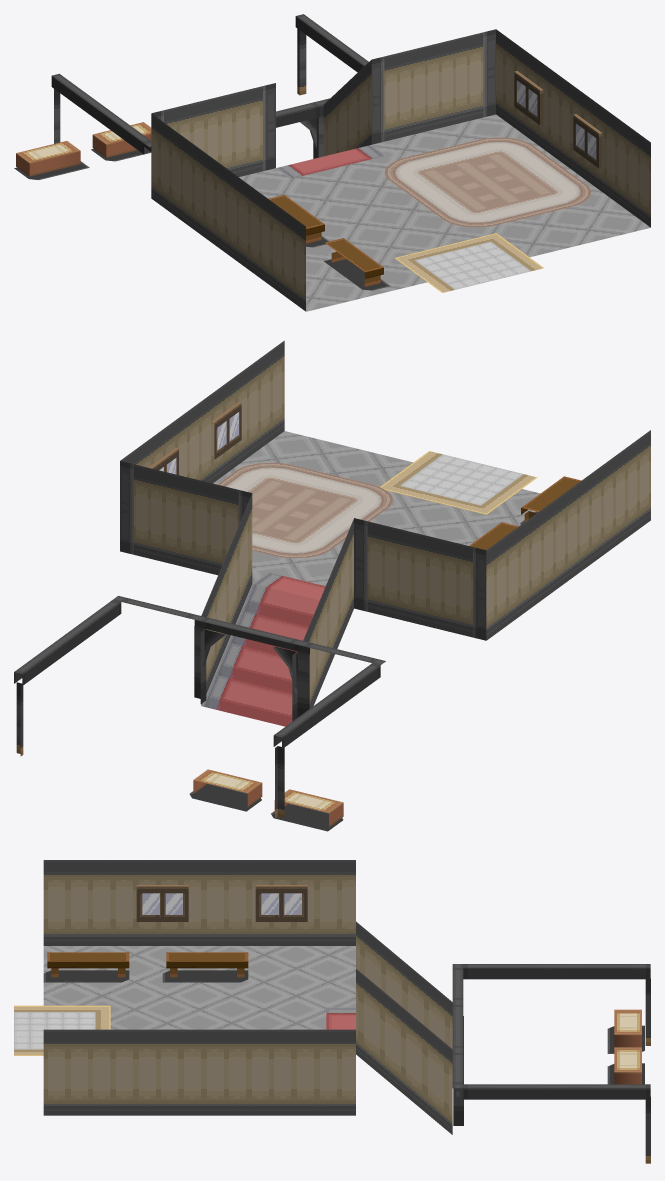
The model's file is HOTEL-B1-8.obj.
3 views of the same model, one above another, from view 1: azimuth 30°, elevation 25°; view 2: azimuth 150°, elevation 25°; view 3: azimuth 270°, elevation 25° (orthographic). The views are drawn at different scales.
Visible parts, largest first — view 1: Indoor_All_v2_06; view 2: Indoor_All_v2_06; view 3: Indoor_All_v2_06.
Boxes of the visible parts, x1,y1,x2,y2 form: Indoor_All_v2_06: (14, 14, 650, 311); Indoor_All_v2_06: (14, 340, 650, 831); Indoor_All_v2_06: (14, 860, 650, 1163).
Size of the model in its own units: 216 by 99 by 343.
